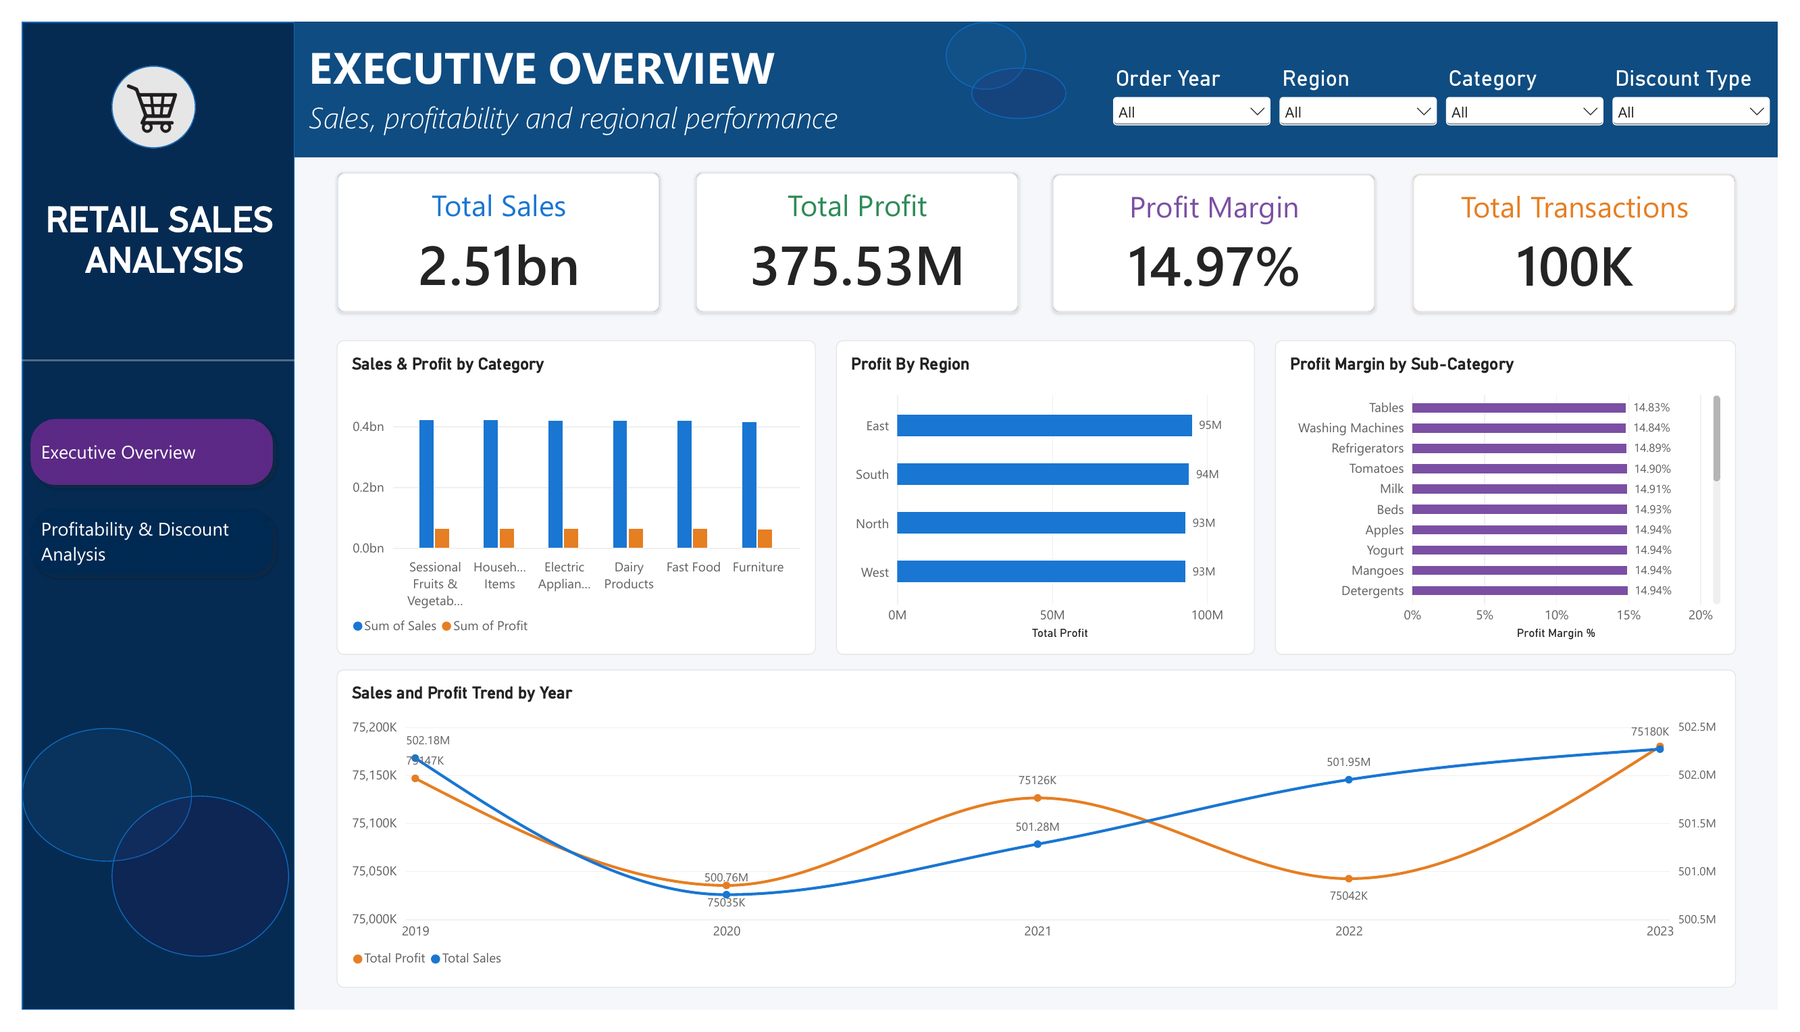

What the dashboard file says about the page in this screenshot:
{"tool":"powerbi","page":{"name":"Executive Overview","canvas":[1920,1080],"ordinal":0},"visuals":[{"type":"shape","title":"Sidebar","box":[0,0,298,1080],"z":0},{"type":"shape","title":"RETAIL SALES & PROFITABILITY ANALYSIS","box":[298,0,1622,148],"z":1000},{"type":"cardVisual","fields":{"Data":["store_sales_data_updated.Total Sales"]},"box":[344,164,354,154],"z":2000},{"type":"cardVisual","fields":{"Data":["store_sales_data_updated.Total Profit"]},"box":[736,164,354,154],"z":3000},{"type":"cardVisual","fields":{"Data":["store_sales_data_updated.Profit Margin"]},"box":[1126,166,354,152],"z":4000},{"type":"cardVisual","fields":{"Data":["store_sales_data_updated.Total Transactions"]},"box":[1520,166,354,152],"z":5000},{"type":"clusteredColumnChart","title":"Sales & Profit by Category","fields":{"Category":["store_sales_data_updated.Category of Goods"],"Y":["Sum(store_sales_data_updated.Sales)","Sum(store_sales_data_updated.Profit)"]},"box":[344,348,524,344],"z":6000},{"type":"barChart","title":"Profit By Region","fields":{"Category":["store_sales_data_updated.Region"],"Y":["Sum(store_sales_data_updated.Profit)"]},"box":[890,348,458,344],"z":7000},{"type":"clusteredBarChart","fields":{"Y":["store_sales_data_updated.Profit Margin"],"Category":["store_sales_data_updated.Sub-Category"]},"box":[1370,348,504,344],"z":8000},{"type":"lineChart","title":"Sales and Profit Trend by Year","fields":{"Category":["store_sales_data_updated.Order Year"],"Y":["store_sales_data_updated.Total Profit"],"Y2":["store_sales_data_updated.Total Sales"]},"box":[344,708,1530,348],"z":9000},{"type":"textbox","box":[314,16,576,66],"z":10000},{"type":"textbox","box":[314,82,828,66],"z":11000},{"type":"slicer","title":"Year","fields":{"Values":["store_sales_data_updated.Category of Goods"]},"box":[1552,48,182,100],"z":12000},{"type":"slicer","title":"Year","fields":{"Values":["store_sales_data_updated.Discount Type"]},"box":[1734,48,182,100],"z":13000},{"type":"slicer","title":"Year","fields":{"Values":["store_sales_data_updated.Region"]},"box":[1370,48,182,100],"z":14000},{"type":"slicer","title":"Year","fields":{"Values":["store_sales_data_updated.Order Year"]},"box":[1188,48,182,100],"z":15000},{"type":"shape","box":[1010,0,88,74],"z":16000},{"type":"shape","box":[1038,50,104,56],"z":17000},{"type":"textbox","title":"Retail Sales Analysis","box":[14,194,284,124],"z":18000},{"type":"shape","box":[98,48,92,90],"z":19000},{"type":"image","box":[98,42,88,106],"z":20000},{"type":"shape","box":[0,220,300,300],"z":21000},{"type":"pageNavigator","box":[0,425.2,283.4,189.6],"z":22000},{"type":"shape","box":[0,772,186,146],"z":23000},{"type":"shape","box":[98,846,194,176],"z":24000}]}

Visuals, with their boxes in screenshot pixels (x1, y1, x2, y2), scaled from the page's 1920x1080 canvas onto the 1800x1032 screenshot:
"Sidebar" shape: (0, 0, 279, 1031)
"RETAIL SALES & PROFITABILITY ANALYSIS" shape: (279, 0, 1799, 141)
cardVisual - store_sales_data_updated.Total Sales: (322, 157, 654, 304)
cardVisual - store_sales_data_updated.Total Profit: (690, 157, 1022, 304)
cardVisual - store_sales_data_updated.Profit Margin: (1056, 159, 1388, 304)
cardVisual - store_sales_data_updated.Total Transactions: (1425, 159, 1757, 304)
"Sales & Profit by Category" clusteredColumnChart: (322, 333, 814, 661)
"Profit By Region" barChart: (834, 333, 1264, 661)
clusteredBarChart - store_sales_data_updated.Profit Margin x store_sales_data_updated.Sub-Category: (1284, 333, 1757, 661)
"Sales and Profit Trend by Year" lineChart: (322, 677, 1757, 1009)
textbox: (294, 15, 834, 78)
textbox: (294, 78, 1071, 141)
"Year" slicer: (1455, 46, 1626, 141)
"Year" slicer: (1626, 46, 1796, 141)
"Year" slicer: (1284, 46, 1455, 141)
"Year" slicer: (1114, 46, 1284, 141)
shape: (947, 0, 1029, 71)
shape: (973, 48, 1071, 101)
"Retail Sales Analysis" textbox: (13, 185, 279, 304)
shape: (92, 46, 178, 132)
image: (92, 40, 174, 141)
shape: (0, 210, 281, 497)
pageNavigator: (0, 406, 266, 587)
shape: (0, 738, 174, 877)
shape: (92, 808, 274, 977)
